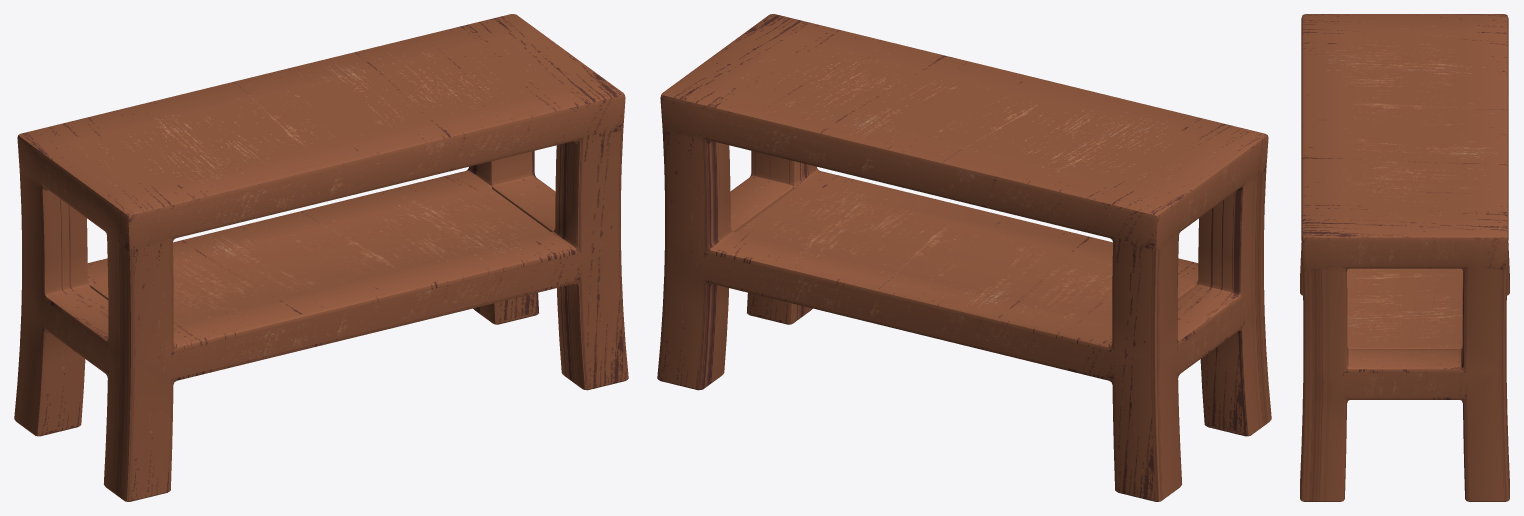
The model's file is Phone_Table.fbx.
The picture shows the model from 3 angles, left to right: view 1: azimuth 30°, elevation 25°; view 2: azimuth 150°, elevation 25°; view 3: azimuth 270°, elevation 25°; orthographic projection. The views are drawn at different scales.
Visible parts, largest first — view 1: Box001; view 2: Box001; view 3: Box001.
Part boxes in pixels (bbox=[...]): Box001: bbox=[14, 14, 628, 501]; Box001: bbox=[657, 14, 1271, 501]; Box001: bbox=[1300, 14, 1509, 501].
Size of the model in its own units: 88.73 by 48.43 by 34.74.
Materials: 1 (1 with a texture image).
